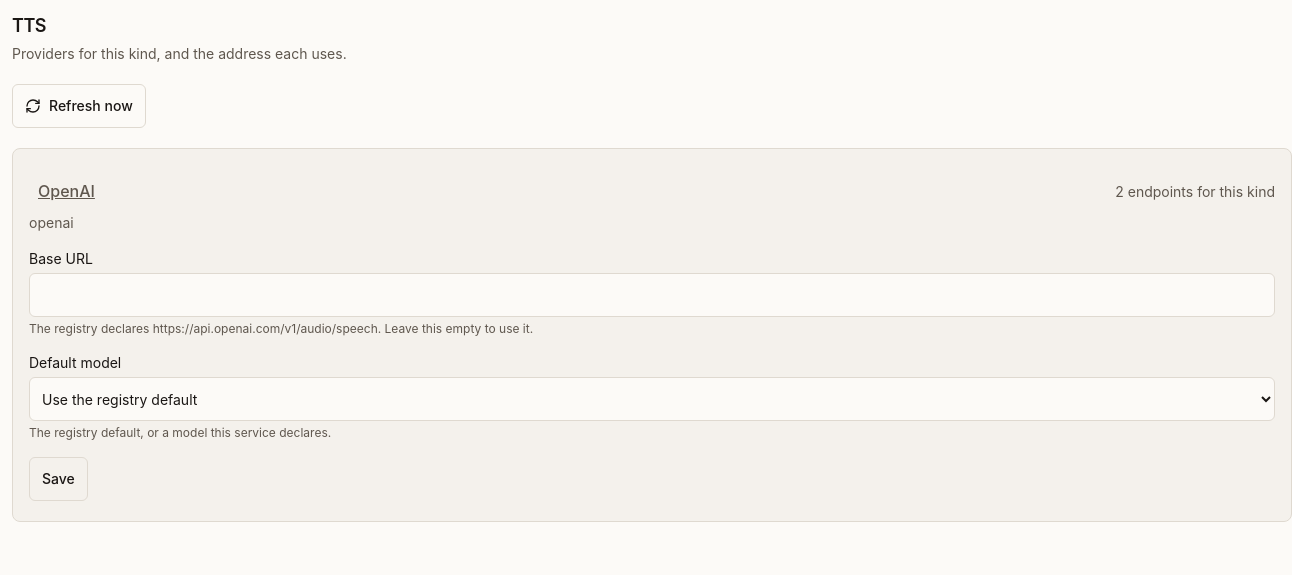
what the card shows after a save › re-renders the resolved block, so the card agrees with what the gateway will dial
Type "http://127.0.0.1:8095/v1/audio/speech" into the field labelled "Base URL" at (652, 295), box [29, 273, 1275, 317]
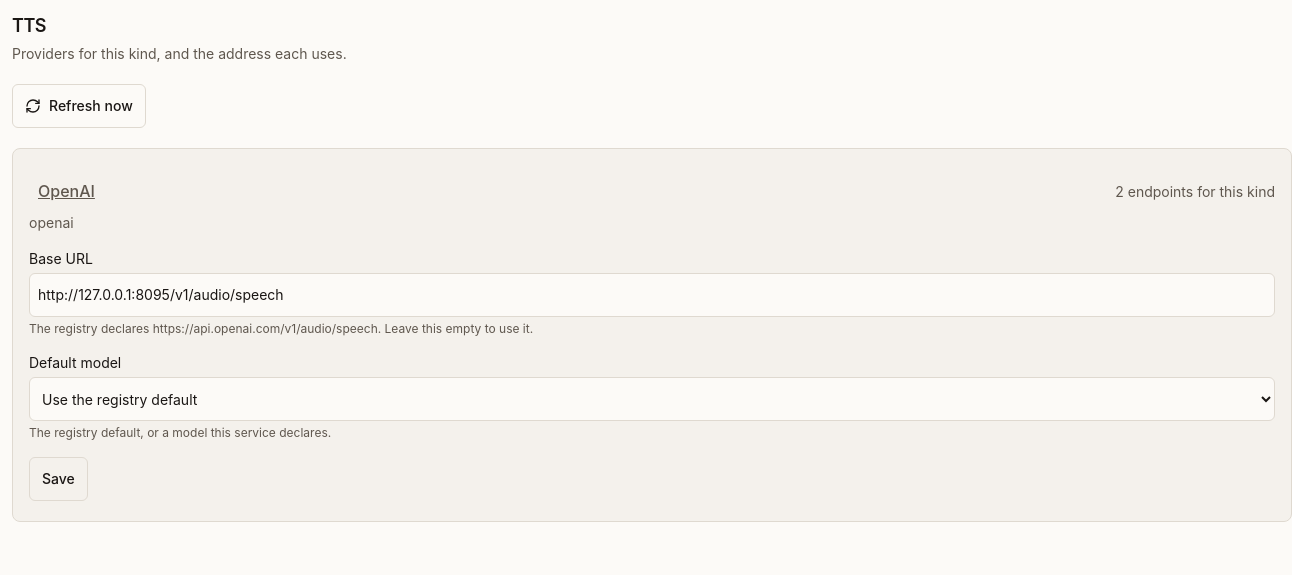
Click the button "Save" at (58, 479), box [29, 457, 88, 501]
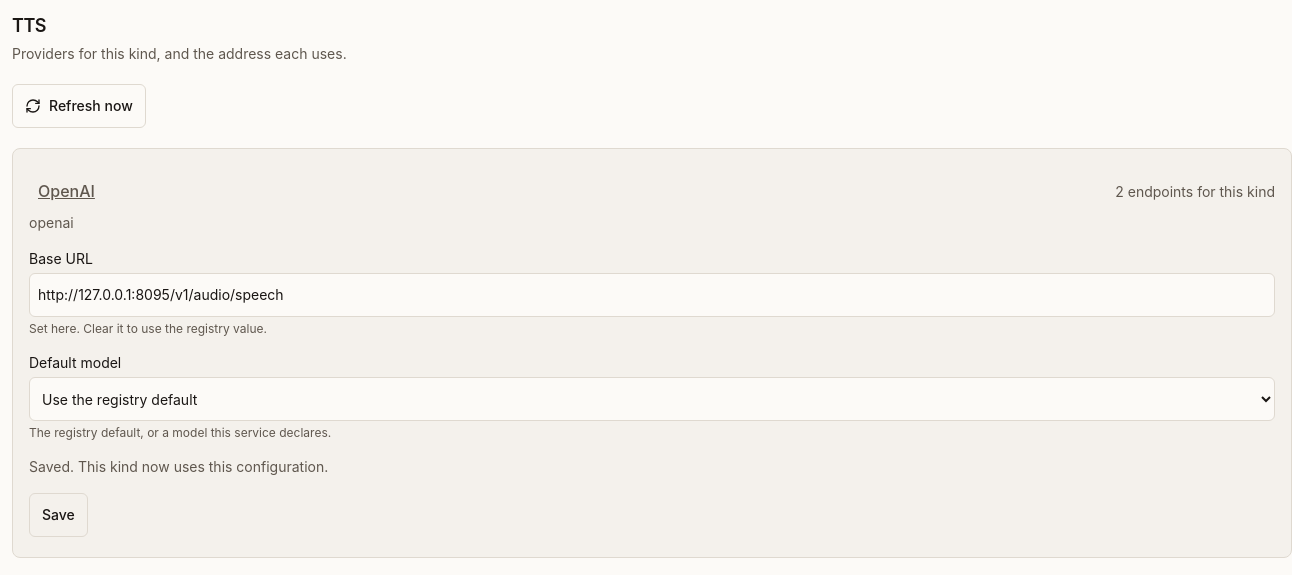
Check: the text "Set here. Clear it to use the registry value." is shown, box [29, 321, 267, 336]
Check: the message reads "Saved. This kind now uses this configuration.", box [29, 458, 328, 475]
